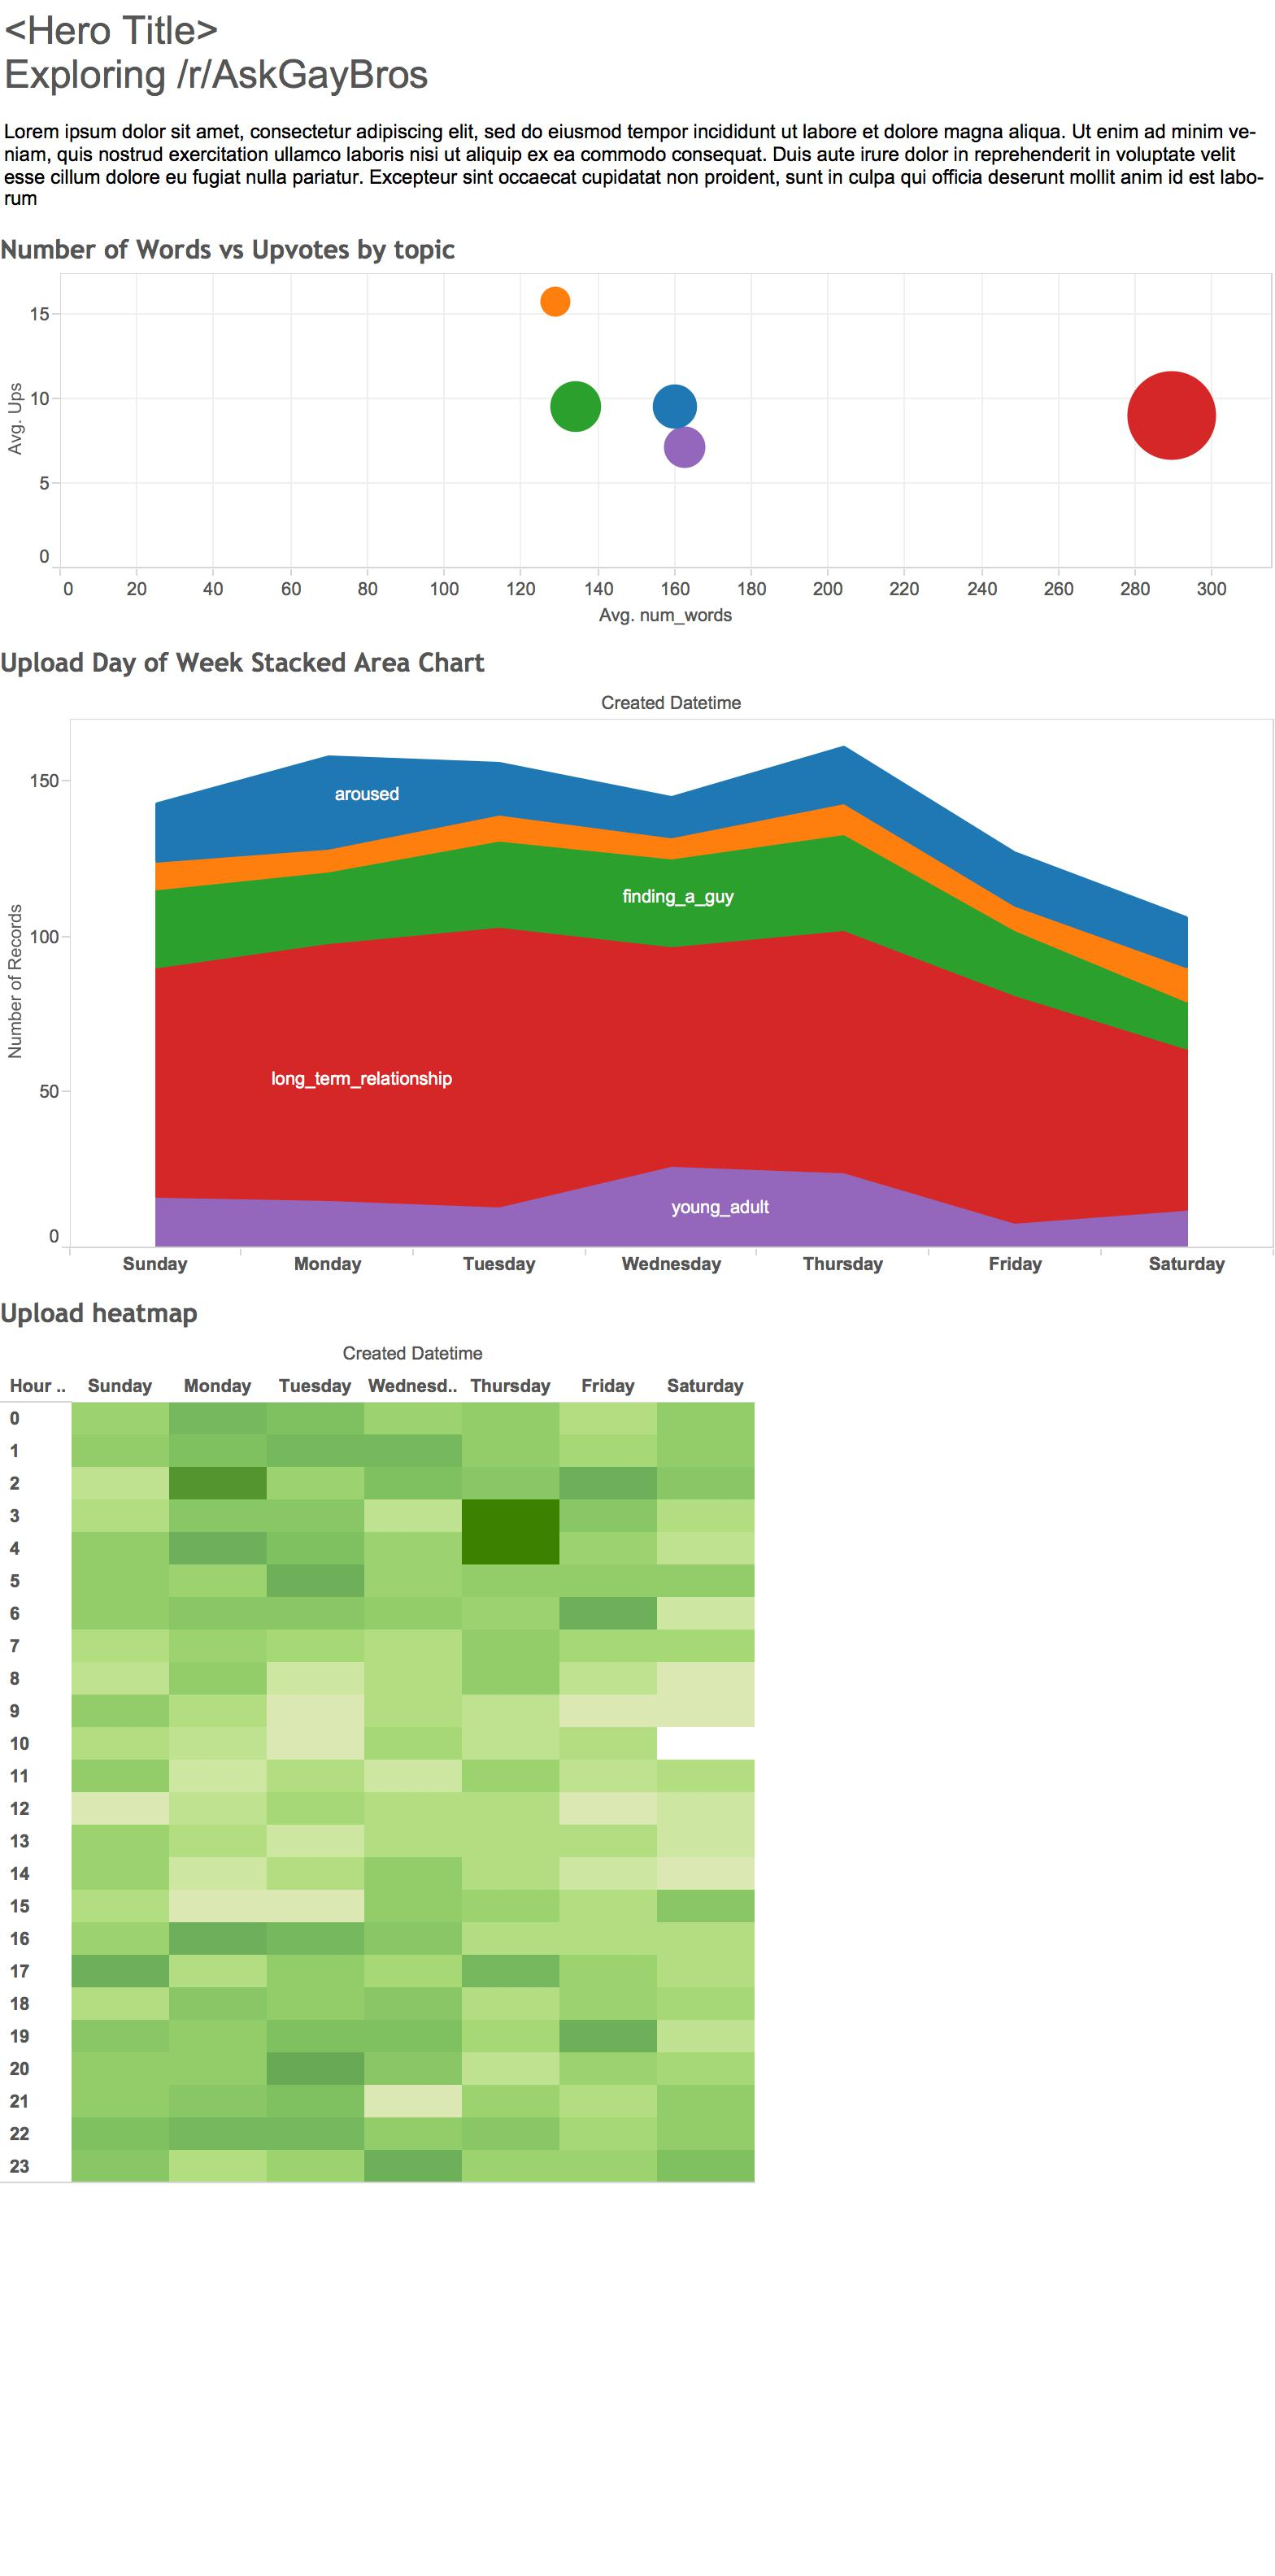

This screenshot's page, from the dashboard's own definition file:
{"tool":"tableau","page":{"name":"Dashboard 1","canvas":[800,1600],"ordinal":0},"visuals":[{"type":"text","box":[0,0,796,145.6]},{"type":"worksheet","title":"Number of Words vs Upvotes by topic","mark":"Circle","rows":["ups"],"cols":["num_words"],"box":[0,145.6,796,254.4]},{"type":"worksheet","title":"Upload Day of Week Stacked Area Chart","mark":"Area","rows":["Number of Records"],"cols":["created_datetime"],"box":[0,400,796,400]},{"type":"worksheet","title":"Upload heatmap","mark":"Automatic","rows":["created_datetime"],"cols":["created_datetime"],"box":[0,800,796,800]}]}

Visuals, with their boxes in screenshot pixels (x1, y1, x2, y2), scaled from the page's 800x1600 canvas onto the 1275x2576 screenshot:
text: rect(0, 0, 1268, 234)
"Number of Words vs Upvotes by topic" worksheet (Circle marks): rect(0, 234, 1268, 644)
"Upload Day of Week Stacked Area Chart" worksheet (Area marks): rect(0, 644, 1268, 1288)
"Upload heatmap" worksheet: rect(0, 1288, 1268, 2575)
